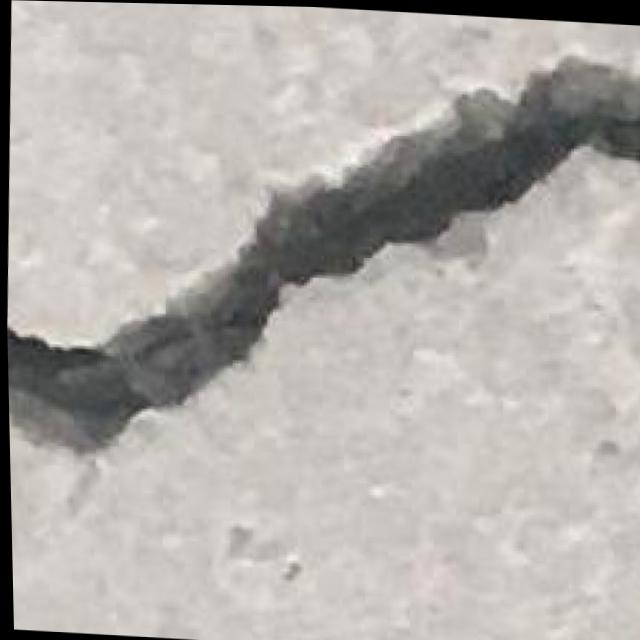Crack: (0, 17, 640, 496)
